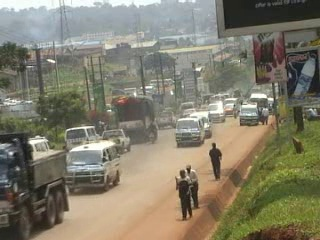Car: (208, 101, 225, 124), (179, 106, 201, 120), (222, 102, 237, 115)
Motorcycle: (143, 120, 162, 143)
